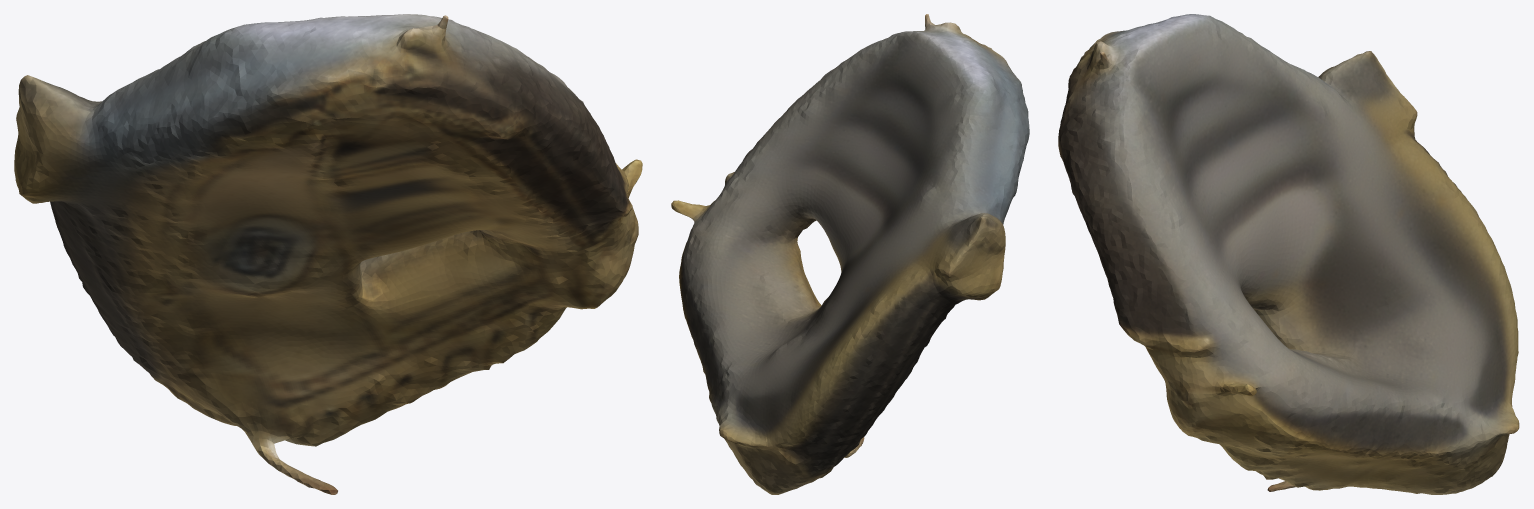
File: IMG_SEG_24.glb
3 views of the same model, side by side, from view 1: azimuth 30°, elevation 25°; view 2: azimuth 150°, elevation 25°; view 3: azimuth 270°, elevation 25° (orthographic). The views are drawn at different scales.
Bounding box in the file's own units: 0.9019 × 0.8622 × 0.8138.
Materials: 1 (1 with a texture image).
